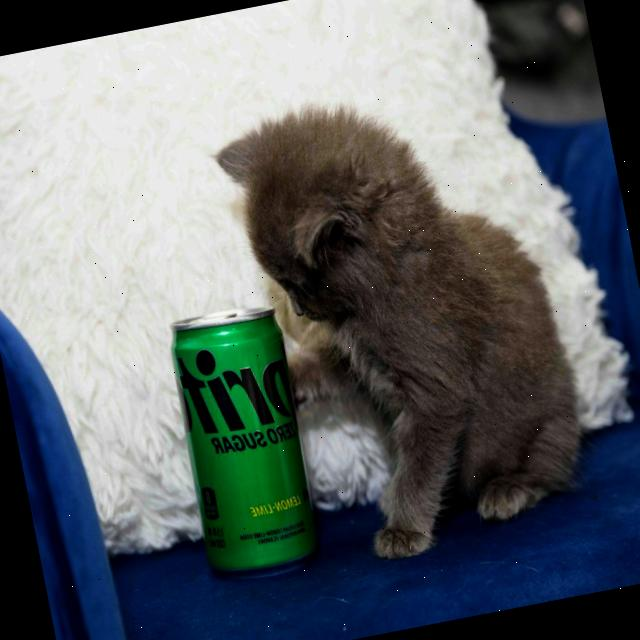manx_cat: (206, 72, 464, 356)
